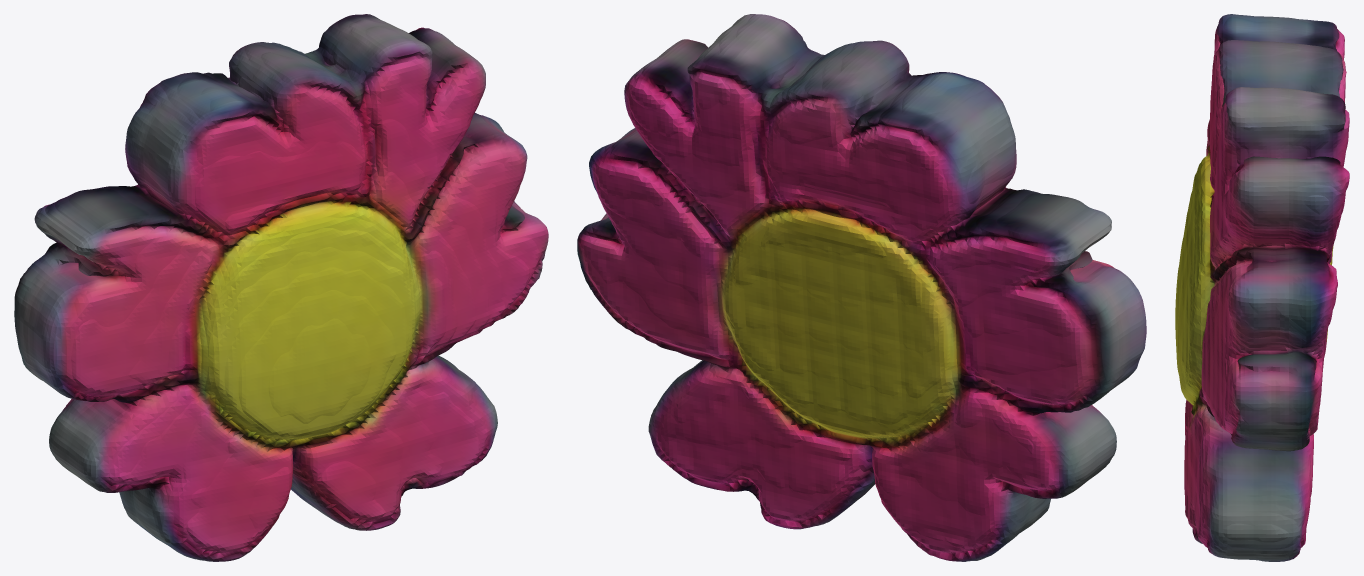
3 views of the same model, side by side, from view 1: azimuth 30°, elevation 25°; view 2: azimuth 150°, elevation 25°; view 3: azimuth 270°, elevation 25° (orthographic). The views are drawn at different scales.
Parts seen in each view (by area): view 1: world; view 2: world; view 3: world.
Boxes of the visible parts, bbox=[...] form: world: bbox=[14, 14, 548, 561]; world: bbox=[577, 14, 1146, 561]; world: bbox=[1175, 14, 1349, 561].
Size of the model in its own units: 0.9208 by 0.806 by 0.2707.
